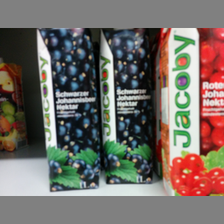juice: (157, 28, 224, 195), (36, 29, 100, 191), (97, 29, 155, 184)
